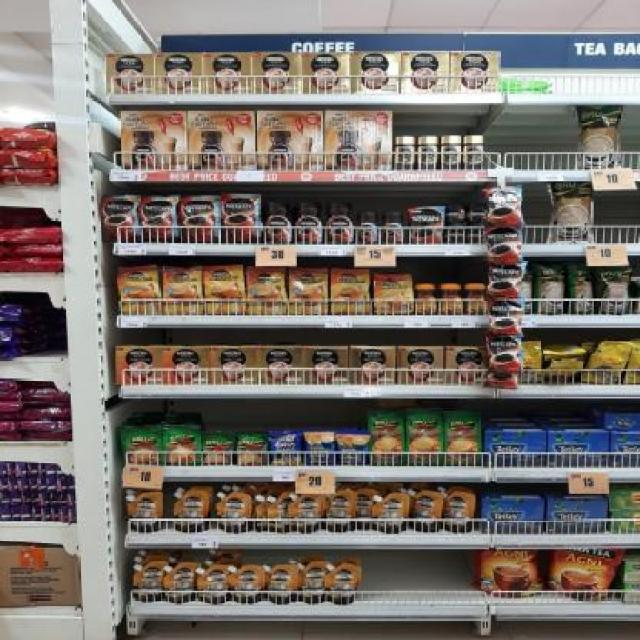Coffee: (246, 266, 288, 314), (162, 267, 204, 315), (100, 196, 142, 242), (203, 268, 245, 314), (118, 268, 159, 314), (180, 197, 220, 243), (222, 195, 260, 243), (290, 270, 328, 314), (140, 196, 177, 241), (333, 270, 370, 314), (374, 274, 411, 314), (291, 200, 323, 243), (324, 200, 354, 243), (411, 208, 444, 243), (264, 202, 291, 244), (438, 283, 464, 314), (394, 135, 415, 171), (413, 284, 438, 314), (462, 136, 484, 170), (356, 212, 379, 243), (466, 283, 488, 314), (382, 211, 403, 243), (442, 136, 461, 170), (418, 136, 437, 170), (446, 224, 465, 242), (468, 224, 487, 242), (469, 206, 488, 222), (446, 208, 466, 223)
